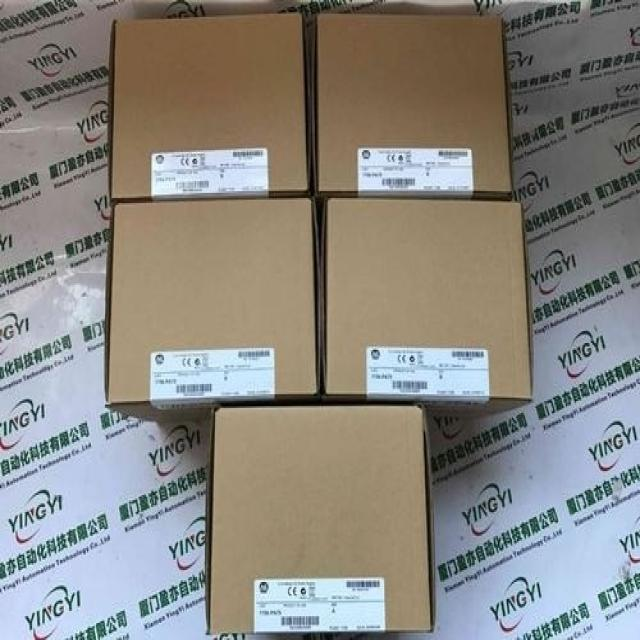box: (207, 398, 434, 631), (314, 194, 535, 424), (107, 195, 322, 425), (303, 11, 513, 195), (110, 12, 313, 200)
